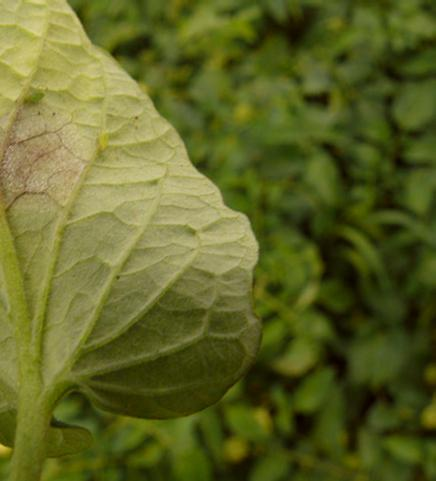Tomato leaf late blight: (0, 0, 289, 467)
